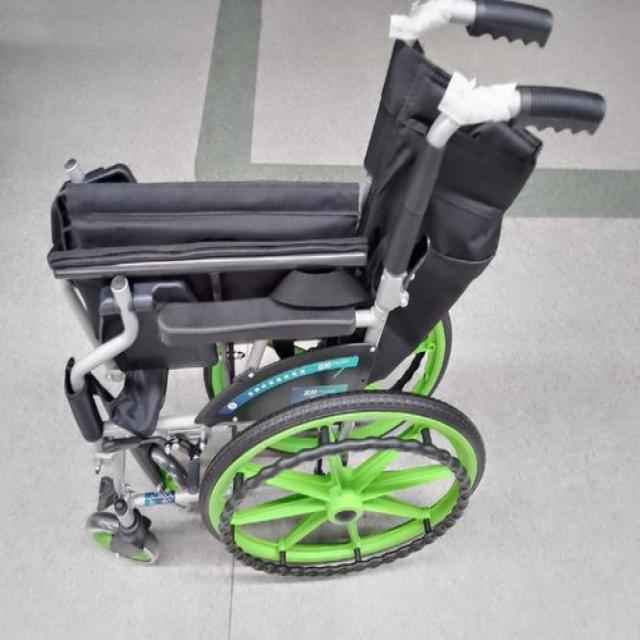wheelchairs: (33, 0, 632, 588)
